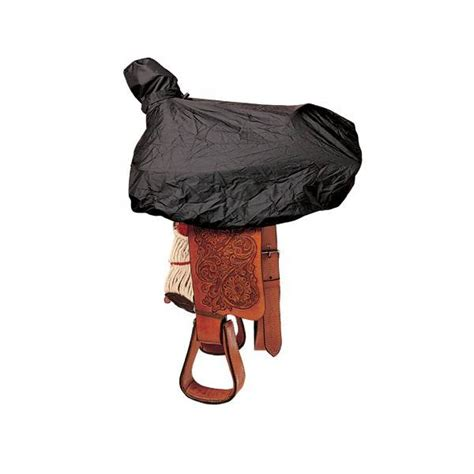nylon: (123, 57, 363, 224)
